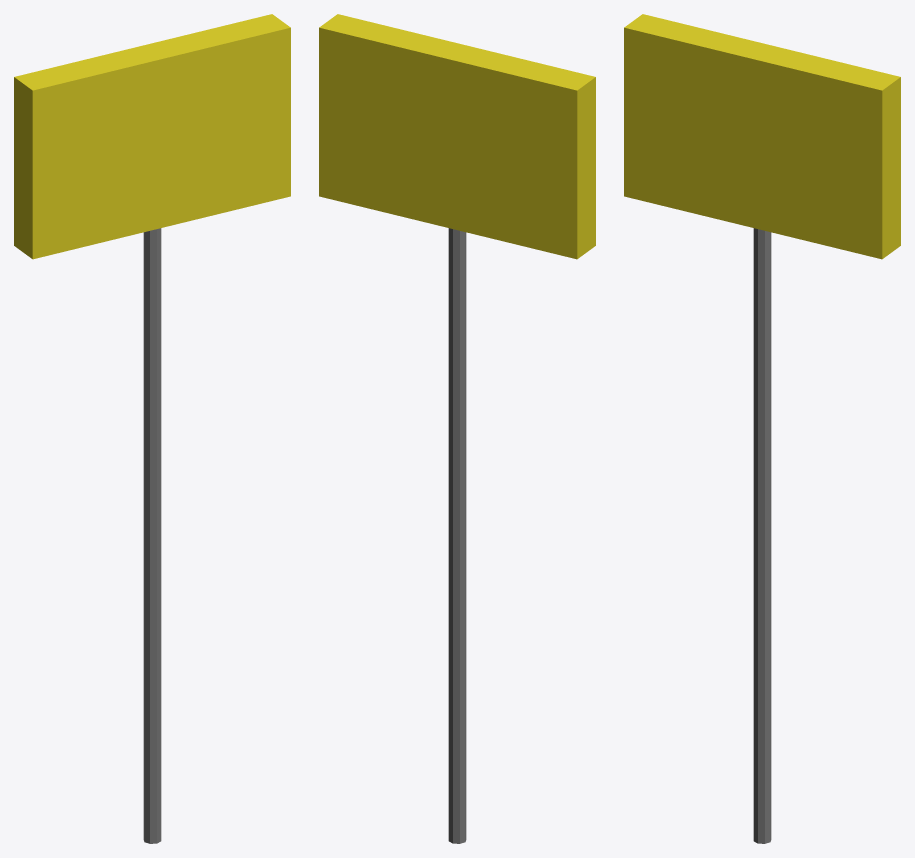
The model's file is ortsschild.fbx.
3 renders of one model, left to right at view 1: azimuth 30°, elevation 25°; view 2: azimuth 150°, elevation 25°; view 3: azimuth 330°, elevation 25°, orthographic.
Parts seen in each view (by area): view 1: schild, stange; view 2: schild, stange; view 3: schild, stange.
Part boxes in pixels (box(x1,y1,x2,y2)): schild: box(14, 14, 290, 259); stange: box(143, 228, 161, 843); schild: box(319, 14, 595, 259); stange: box(448, 228, 466, 843); schild: box(624, 14, 900, 259); stange: box(753, 228, 771, 843).
Size of the model in its own units: 96 by 280 by 12.
